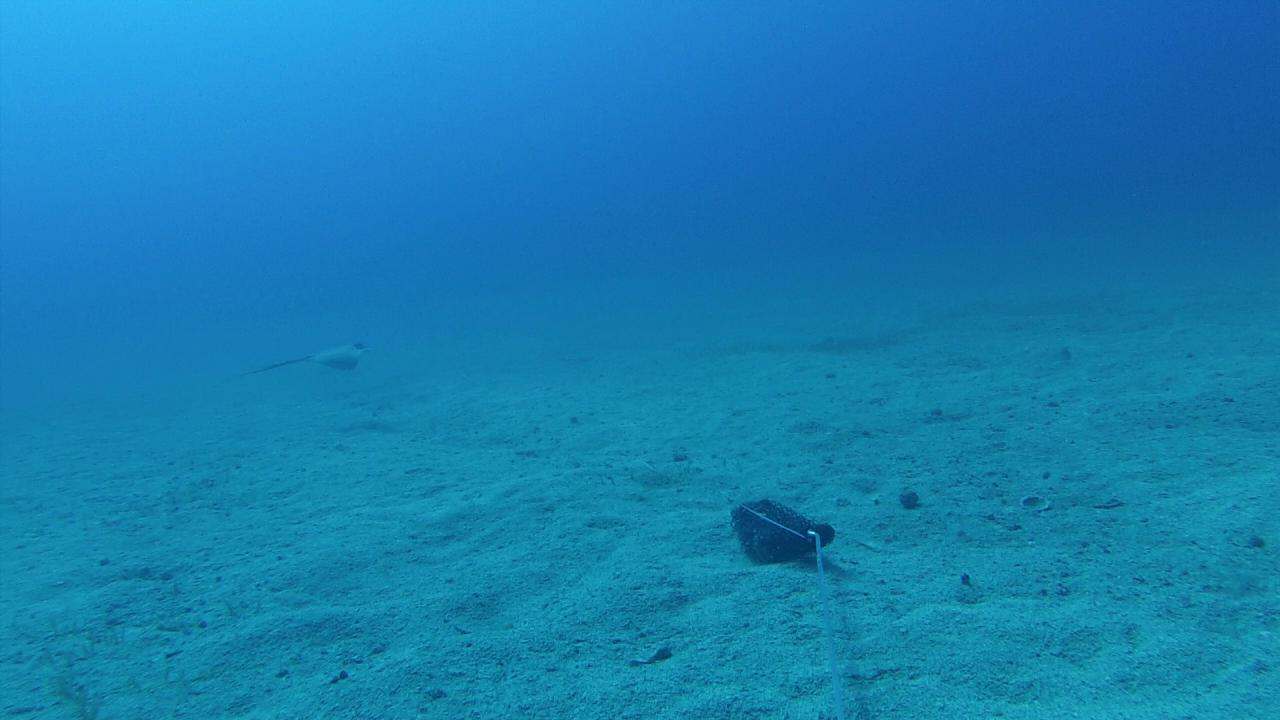dasyatis: (237, 337, 372, 376)
